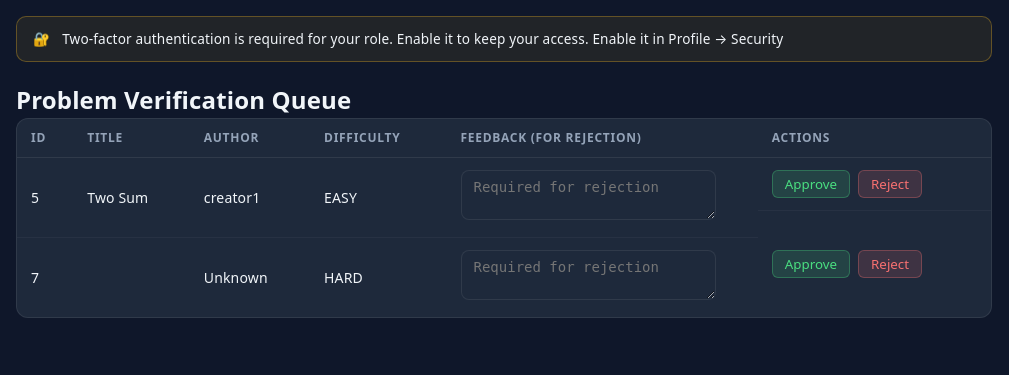
ProblemVerificationQueuePage (/admin/problem-queue) › approves without feedback, refetches, clears the feedback field, and shows a message
Check: the link "Two Sum" is shown, box [87,188,148,207]
Click the button "Approve" in the row of "Two Sum" at [811, 184], box [772,170,850,198]
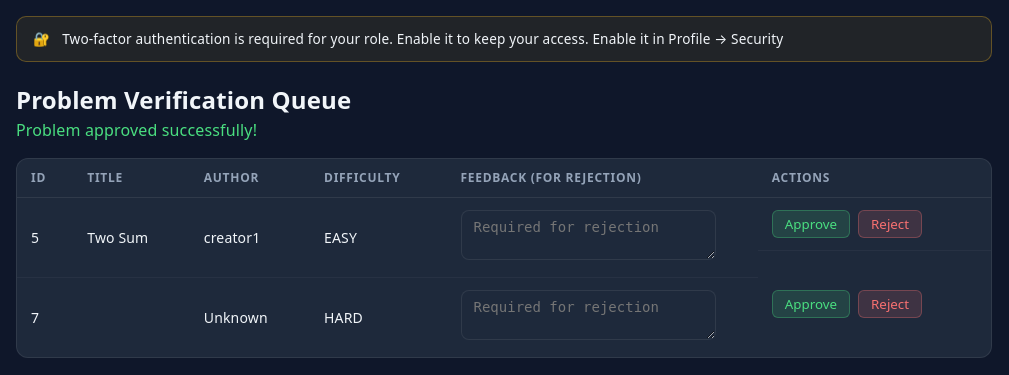
Check: the text "Problem approved successfully!" is shown, box [16,119,257,141]
